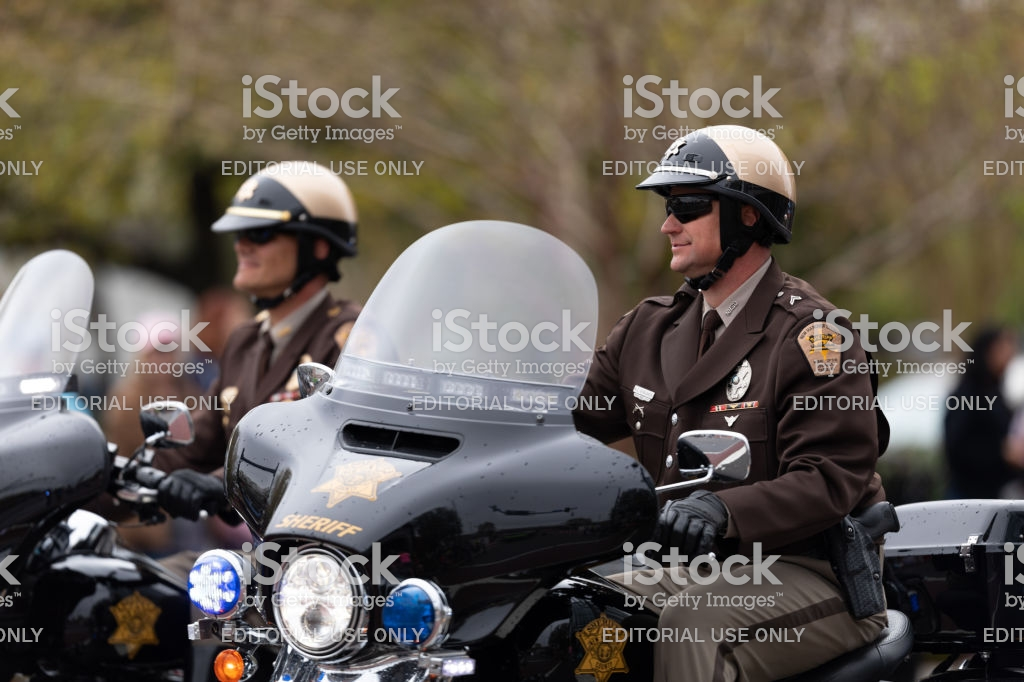helmet: (649, 125, 807, 211), (240, 164, 376, 254)
